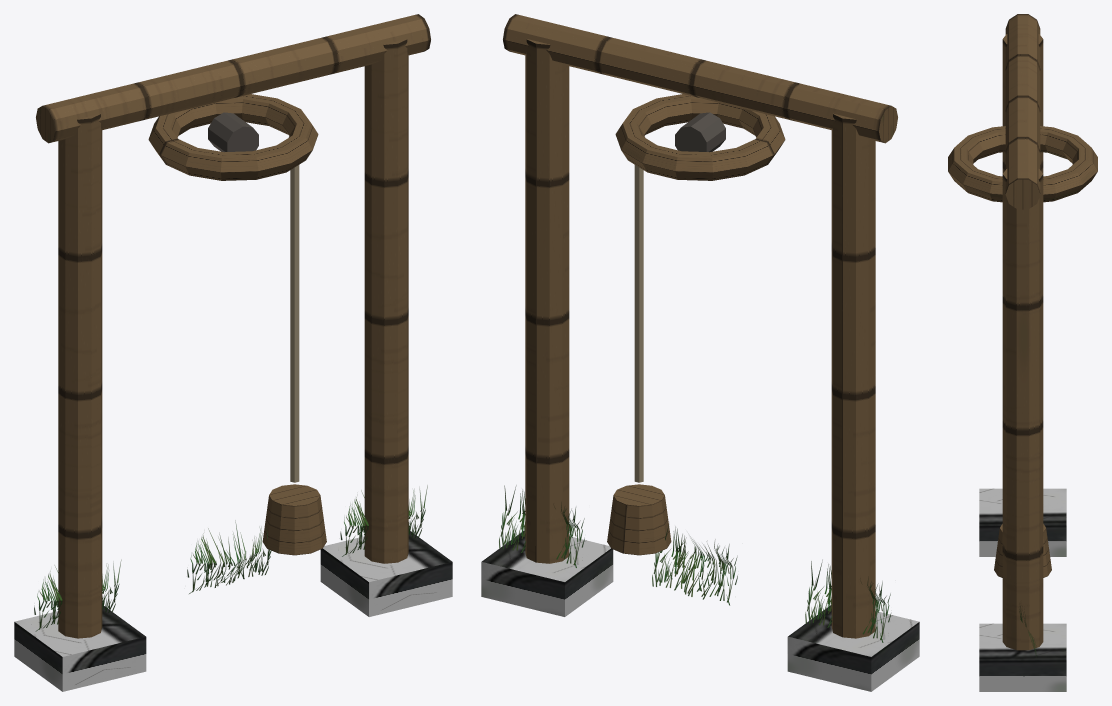
File: gieng-co-rong-roc-go.glb
3 views of the same model, side by side, from view 1: azimuth 30°, elevation 25°; view 2: azimuth 150°, elevation 25°; view 3: azimuth 270°, elevation 25° (orthographic). The views are drawn at different scales.
Visible parts, largest first — view 1: gieng-co-rong-roc-go; view 2: gieng-co-rong-roc-go; view 3: gieng-co-rong-roc-go.
Boxes of the visible parts, x1,y1,x2,y2 form: gieng-co-rong-roc-go: [14, 14, 452, 691]; gieng-co-rong-roc-go: [481, 14, 919, 691]; gieng-co-rong-roc-go: [948, 14, 1097, 691].
Size of the model in its own units: 1.4 by 1.94 by 0.5167.
Materials: 5 (3 with a texture image).
